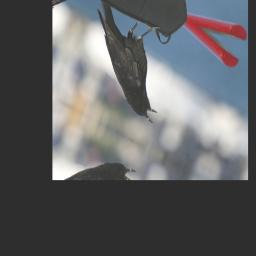Crow: (71, 0, 185, 127)
